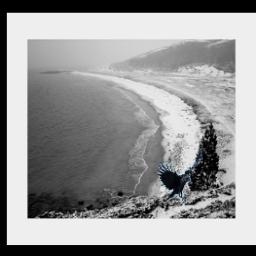Crow: (158, 146, 202, 202)
